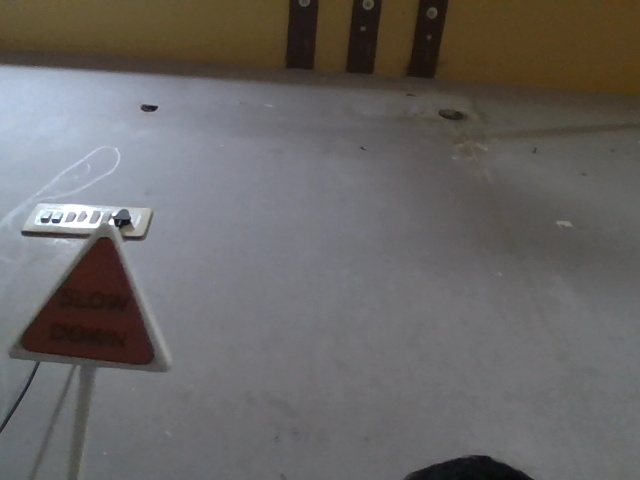slowdown: (15, 221, 181, 381)
